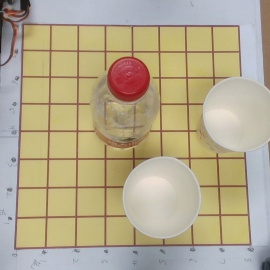bottle: (84, 56, 160, 158)
cup: (115, 155, 201, 239), (190, 77, 270, 152)
